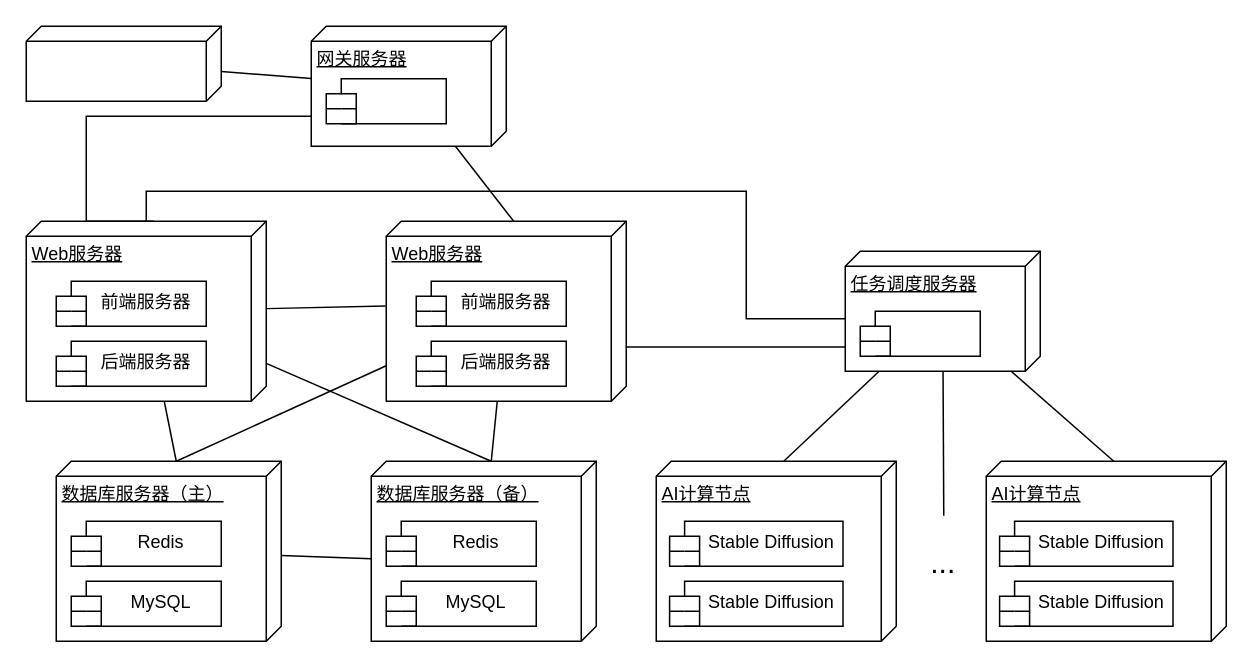
This 1253x668 diagram has some shape labels left out. Each missing label, with the centre of its shape:
Nginx: (x=385, y=100)
XxlJob: (x=919, y=333)
客户端浏览器: (x=123, y=63)
